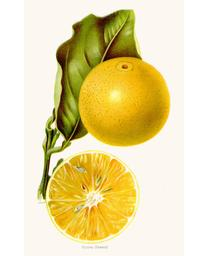lemon: (49, 150, 142, 243), (77, 58, 171, 148)
